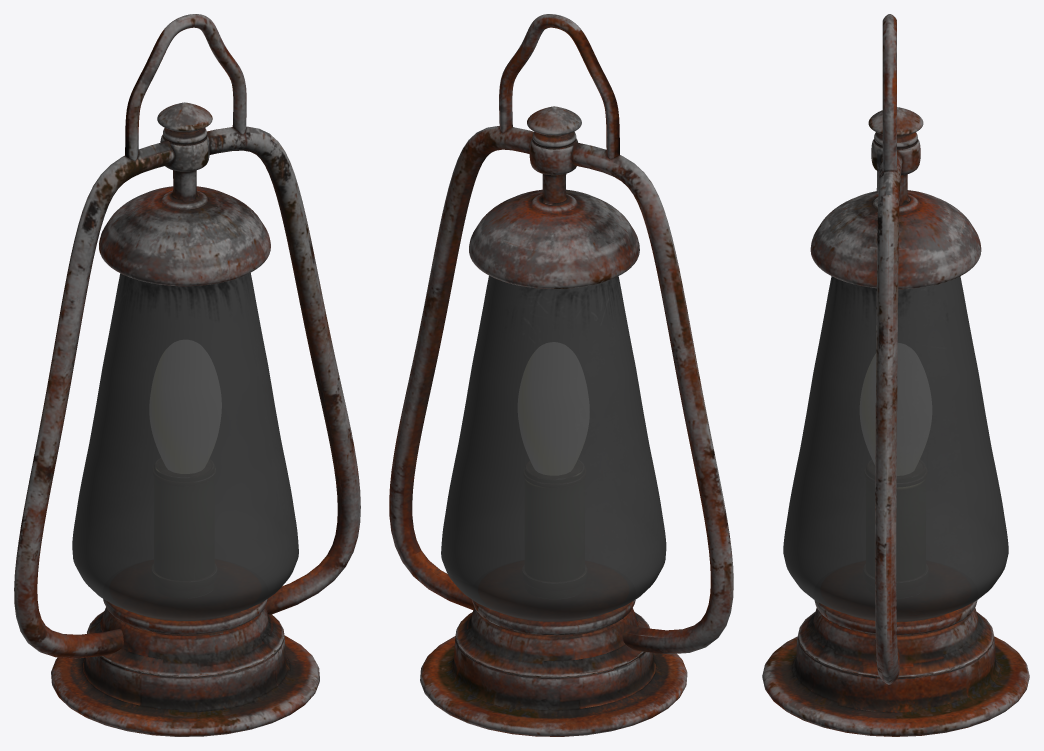
The model's file is old_lantern.glb.
3 views of the same model, side by side, from view 1: azimuth 30°, elevation 25°; view 2: azimuth 150°, elevation 25°; view 3: azimuth 270°, elevation 25° (orthographic).
Visible parts, largest first — view 1: topHandle; view 2: topHandle; view 3: topHandle.
Part boxes in pixels (x1,y1,x2,y2): topHandle: (14,14,360,736); topHandle: (389,14,733,736); topHandle: (762,14,1029,736).
Size of the model in its own units: 2.68 by 4.97 by 1.81.
Materials: 2 (2 with a texture image).
